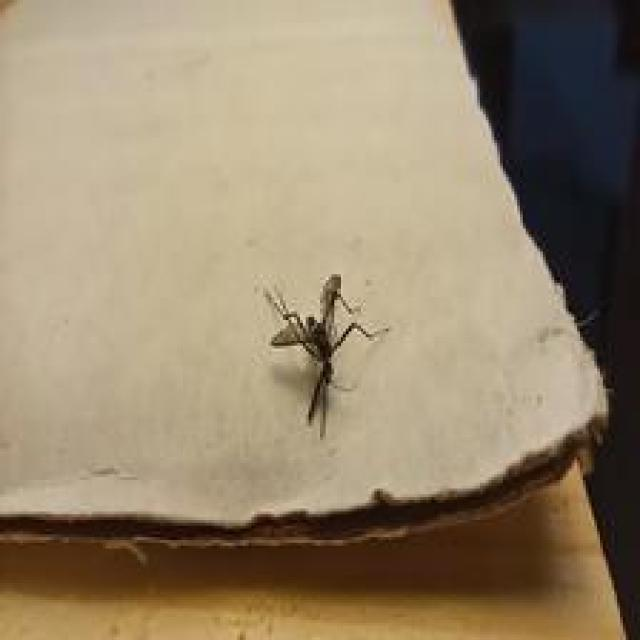Aedes albopictus: (260, 273, 389, 438)
